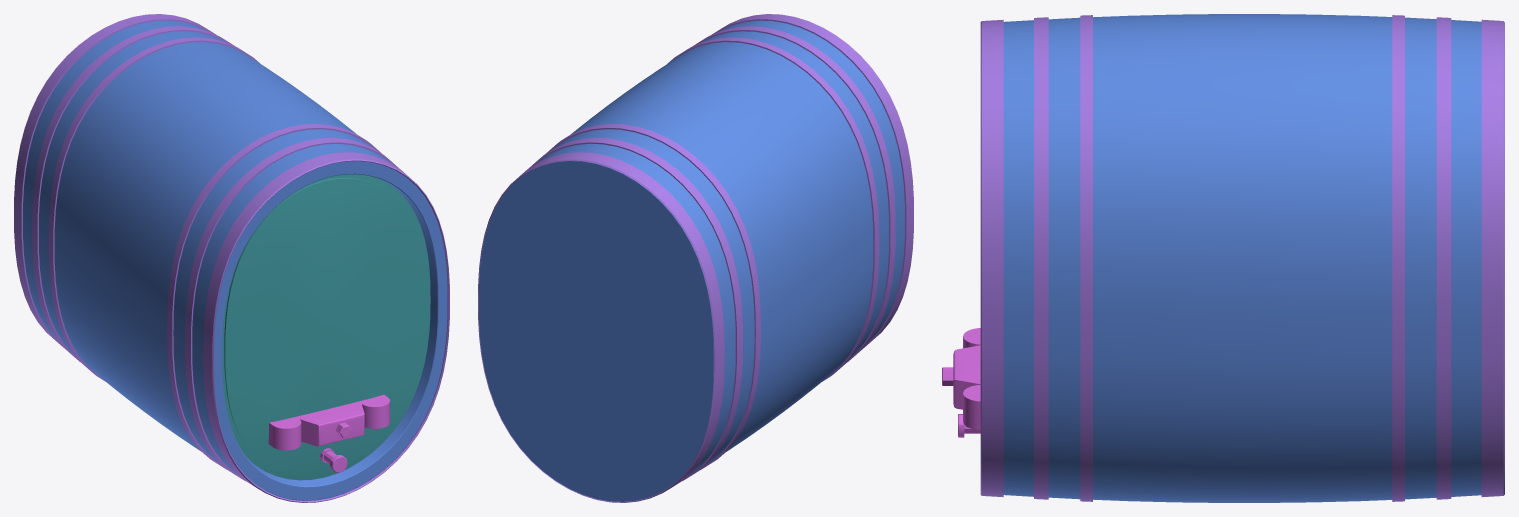
Rendered from stueckfassB.fbx.
3 views of the same model, side by side, from view 1: azimuth 30°, elevation 25°; view 2: azimuth 150°, elevation 25°; view 3: azimuth 270°, elevation 25° (orthographic). The views are drawn at different scales.
Parts seen in each view (by area): view 1: stueckfass_wood, stueckfass_front, stueckfass_rings, stueckfass_zapf; view 2: stueckfass_wood, stueckfass_rings; view 3: stueckfass_wood, stueckfass_rings, stueckfass_zapf.
Boxes of the visible parts, <box> form: stueckfass_wood: <box>23,20,447,500</box>; stueckfass_front: <box>222,174,430,480</box>; stueckfass_rings: <box>14,14,449,502</box>; stueckfass_zapf: <box>268,394,389,472</box>; stueckfass_wood: <box>479,20,904,501</box>; stueckfass_rings: <box>478,14,913,502</box>; stueckfass_wood: <box>1003,14,1481,502</box>; stueckfass_rings: <box>980,15,1504,501</box>; stueckfass_zapf: <box>942,328,980,437</box>.
Size of the model in its own units: 1.06 by 1.44 by 1.61.
